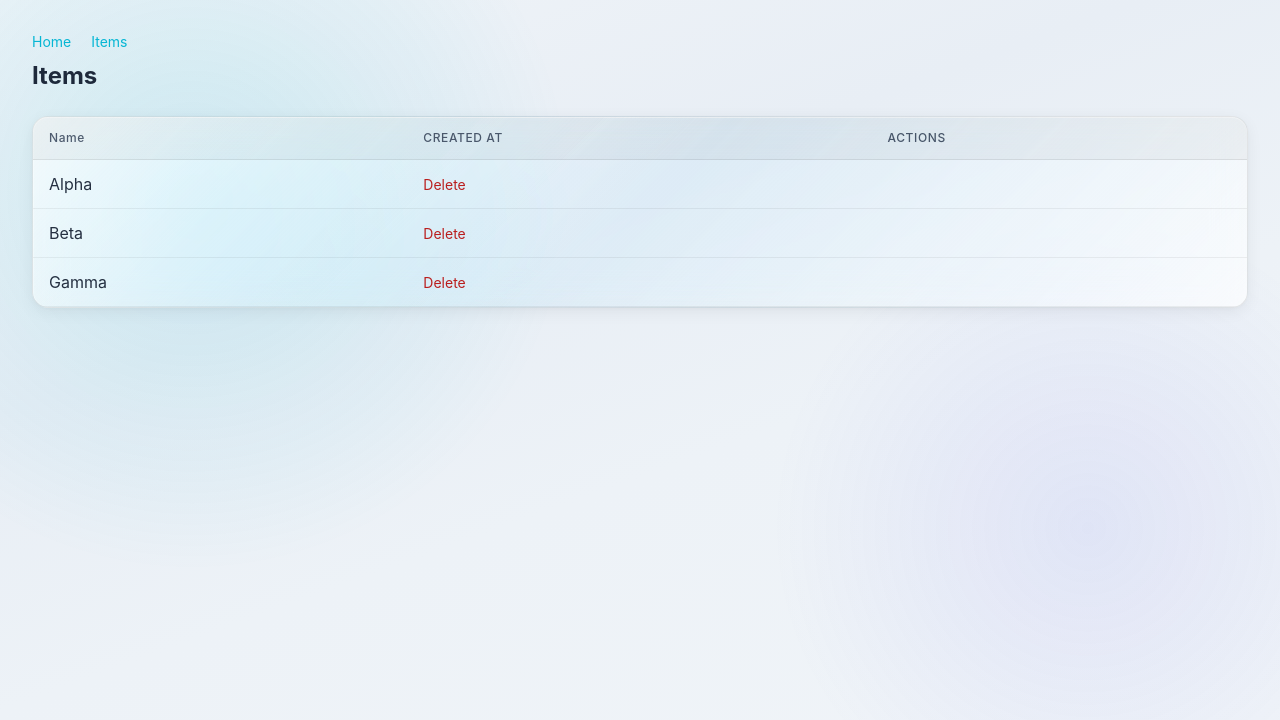
it: EntityListPage › opens the ConfirmDialog when a Delete button is clicked
Click the button "Delete" in the row of "Alpha": (444, 185) [423,175,466,195]
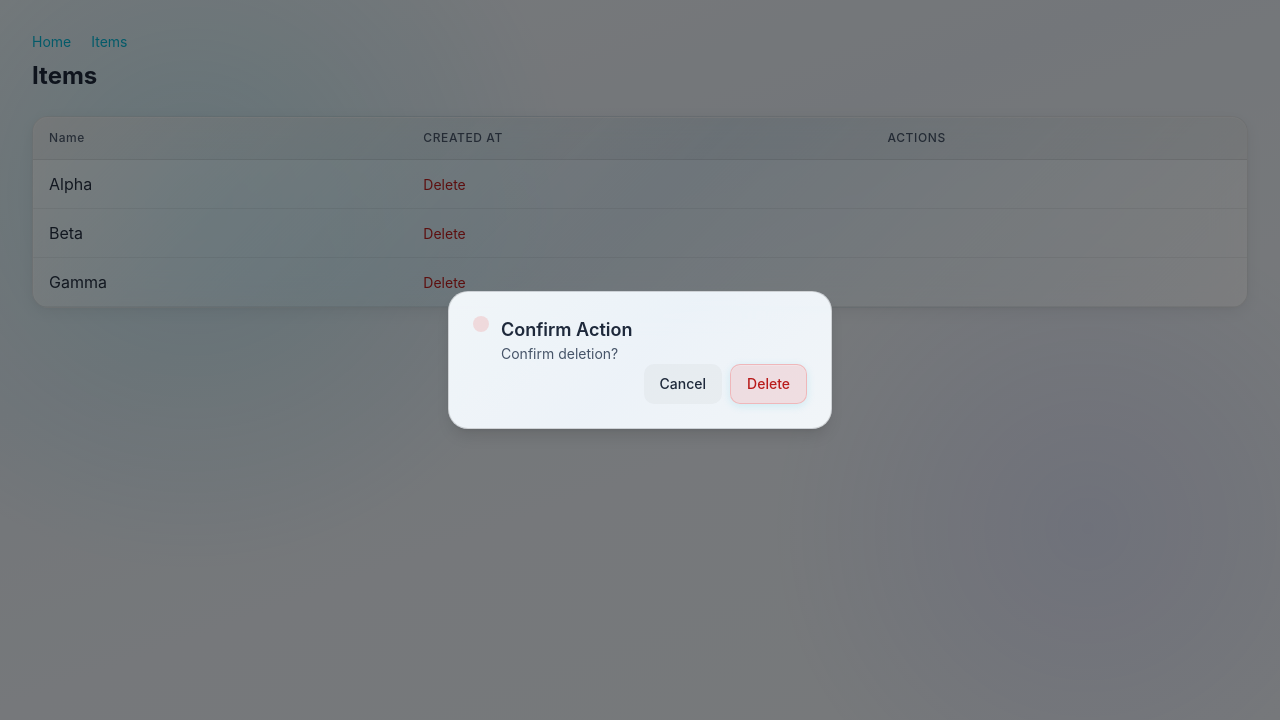
Check: the text "Confirm deletion?" is shown, box [501,344,632,364]
